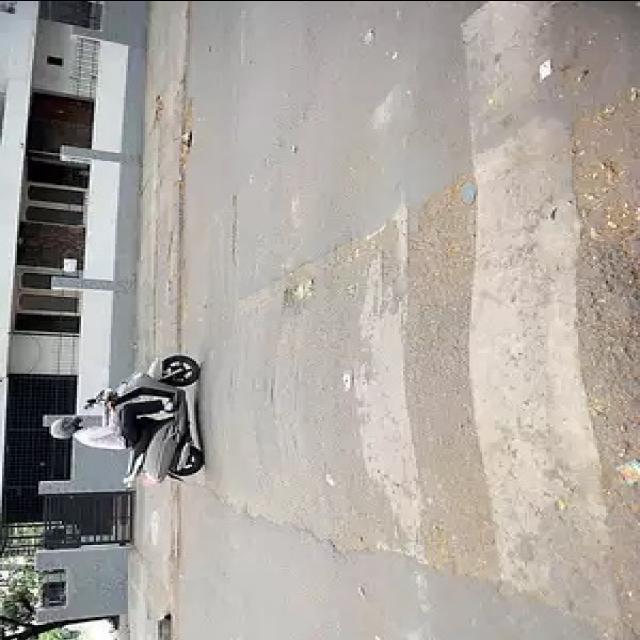speedbreaker: (192, 208, 640, 528)
